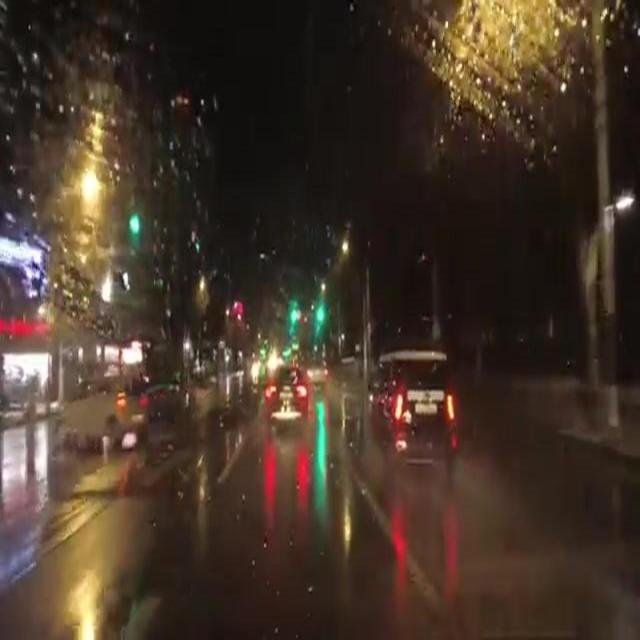Car: (370, 349, 453, 465), (263, 362, 308, 427), (303, 359, 328, 389)
